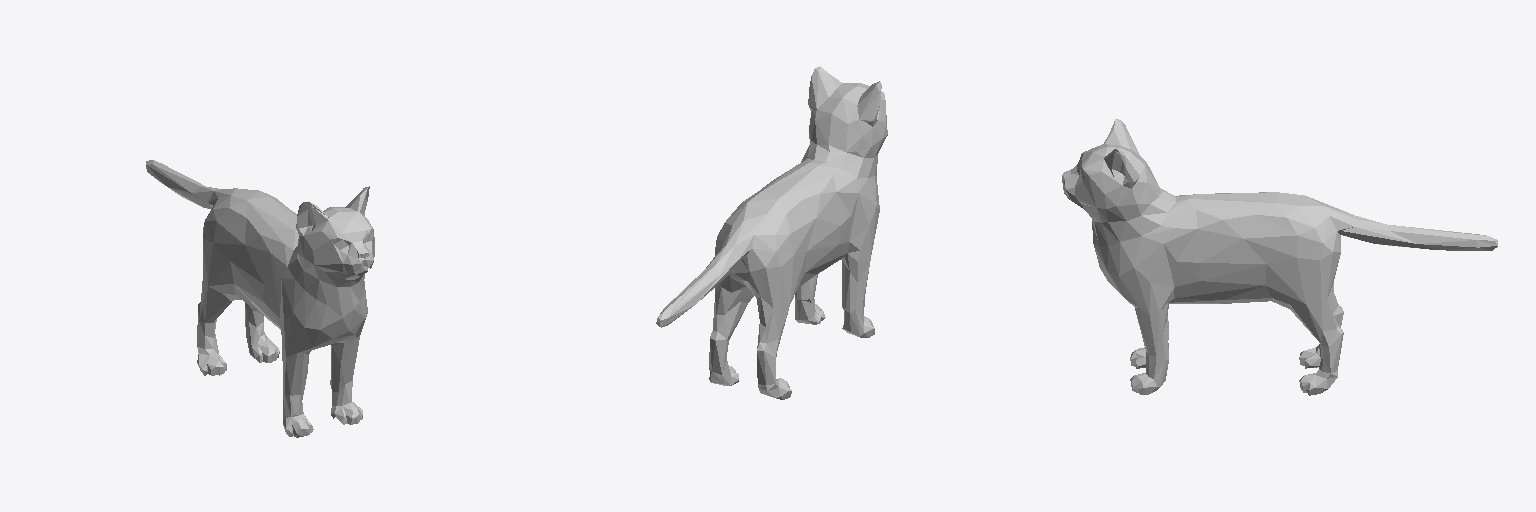
File: cat_l15.obj
The picture shows the model from 3 angles: view 1: azimuth 30°, elevation 25°; view 2: azimuth 150°, elevation 25°; view 3: azimuth 270°, elevation 25°; orthographic projection.
Visible parts, largest first — view 1: 12221_Cat_v1_l3.001; view 2: 12221_Cat_v1_l3.001; view 3: 12221_Cat_v1_l3.001.
Boxes of the visible parts, x1,y1,x2,y2 form: 12221_Cat_v1_l3.001: [146, 160, 374, 437]; 12221_Cat_v1_l3.001: [656, 66, 887, 399]; 12221_Cat_v1_l3.001: [1062, 119, 1497, 395].
Size of the model in its own units: 0.6262 by 1.88 by 3.04.